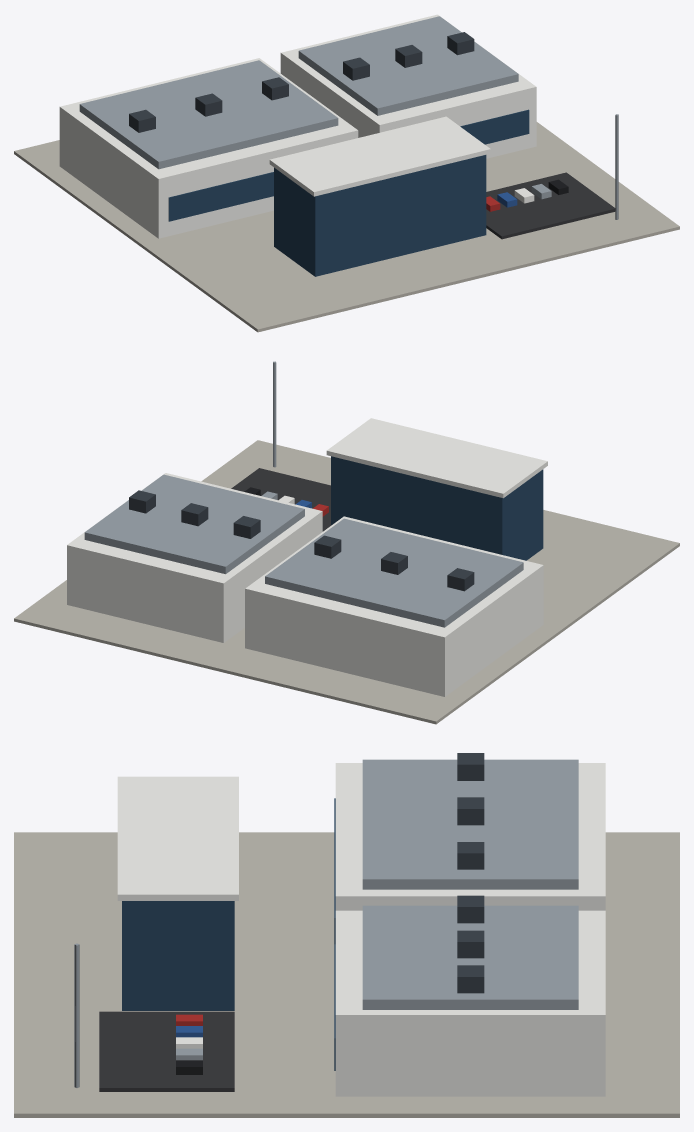
Rendered from building_ftz.glb.
3 views of the same model, one above another, from view 1: azimuth 30°, elevation 25°; view 2: azimuth 150°, elevation 25°; view 3: azimuth 270°, elevation 25° (orthographic). The views are drawn at different scales.
Parts seen in each view (by area): view 1: building_ftz; view 2: building_ftz; view 3: building_ftz.
Boxes of the visible parts, x1,y1,x2,y2 form: building_ftz: (14,14,679,332); building_ftz: (14,361,679,724); building_ftz: (14,753,679,1117).
Size of the model in its own units: 2.96 by 0.72 by 2.96.
